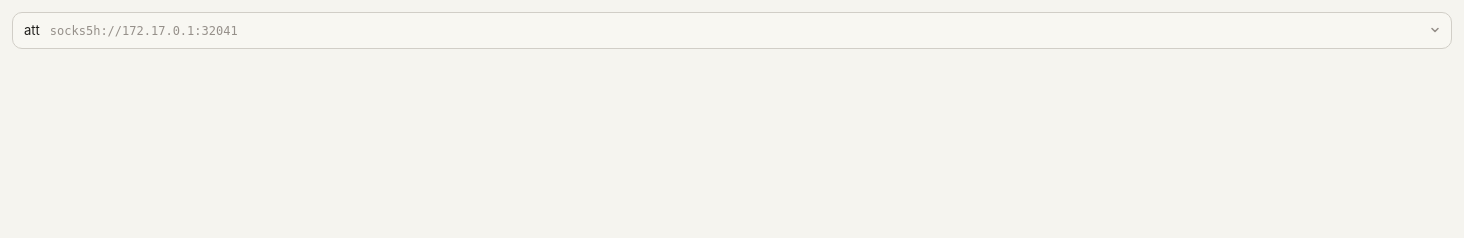
Test case: clicking an option chooses it and closes the menu
This screenshot has width=1464, height=238.
Step 1. Click the dropdown with id "sel" → point(144, 31), box 12,12 -> 1452,49
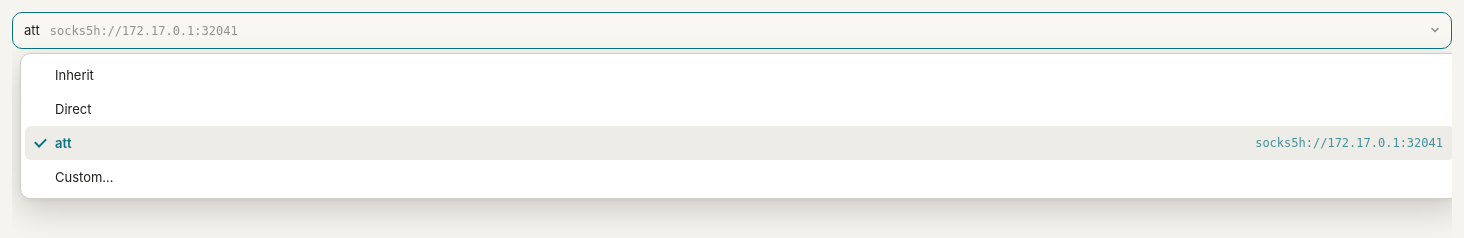
Step 2. Click the option "Direct" → point(73, 109), box 55,101 -> 92,117
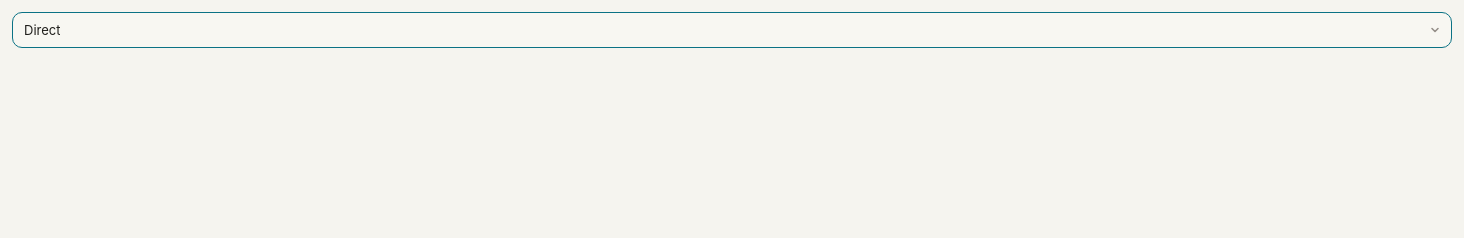
Check: the list is gone
